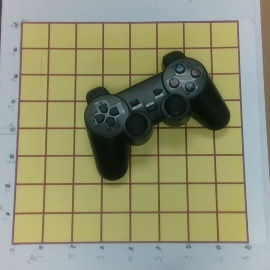remote: (83, 50, 230, 185)
